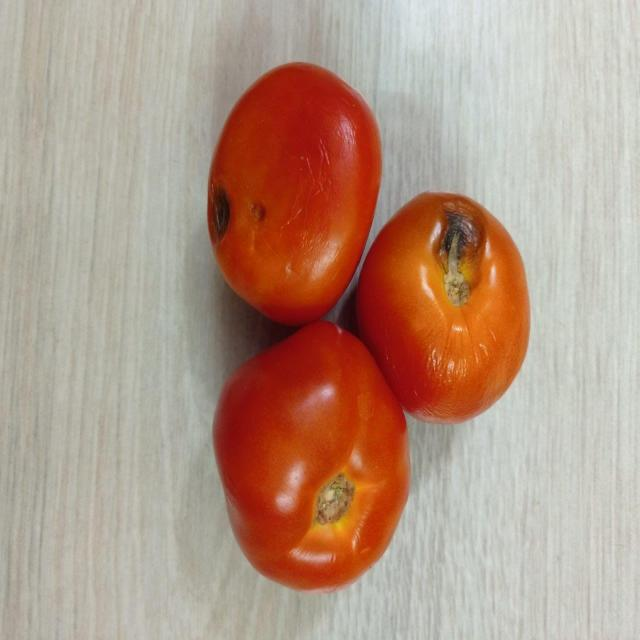Ripe: (212, 325, 410, 592)
Rotten: (204, 62, 383, 326), (360, 189, 530, 422)
